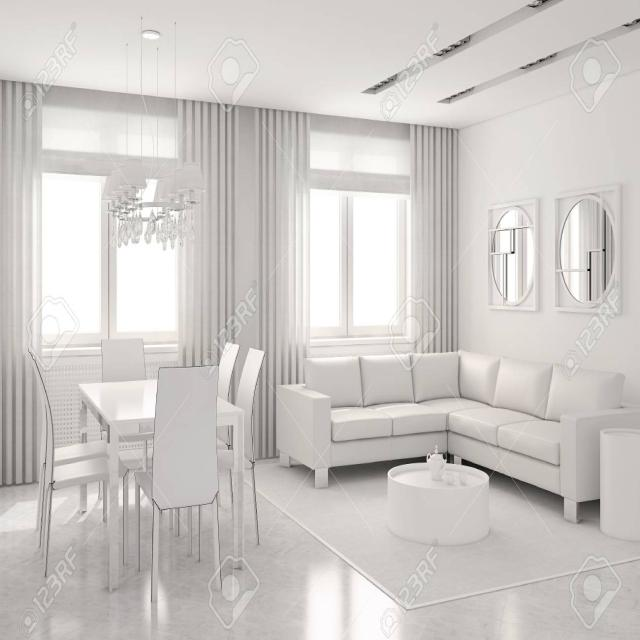white chair: (148, 367, 227, 601), (42, 382, 126, 578)
white sofa: (321, 345, 622, 516)
